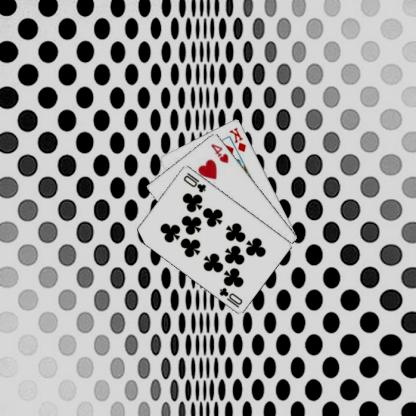10C: (218, 284, 246, 309), (182, 170, 210, 194)
4H: (210, 140, 232, 164)
KD: (228, 125, 249, 153)
